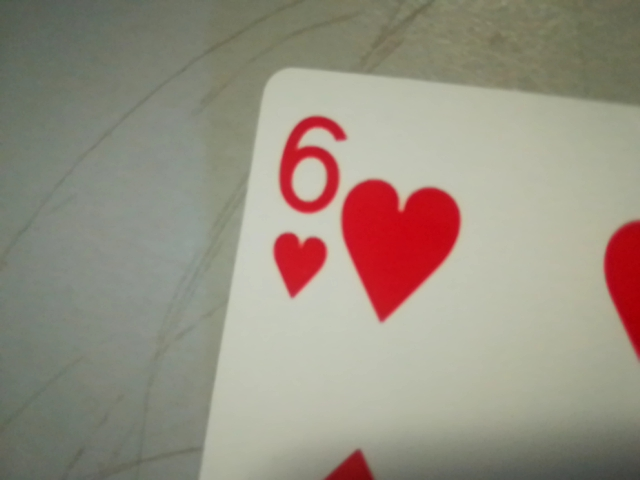hx 6: (265, 104, 345, 309)
